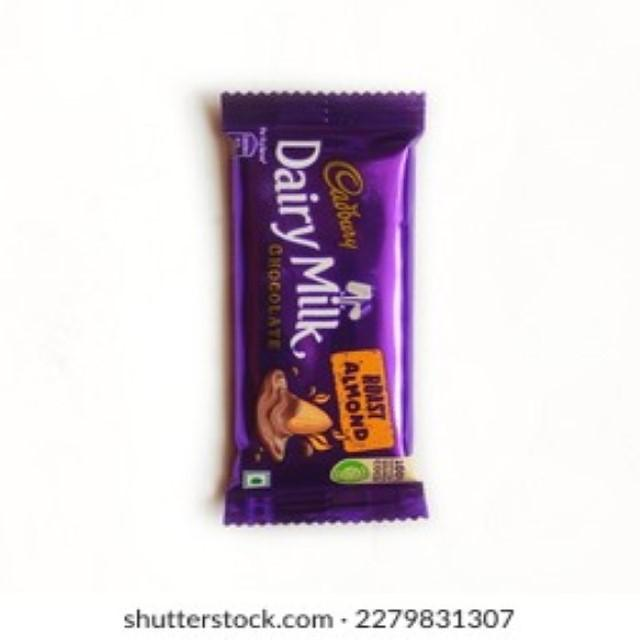cadbury_chocolate: (217, 97, 433, 513)
